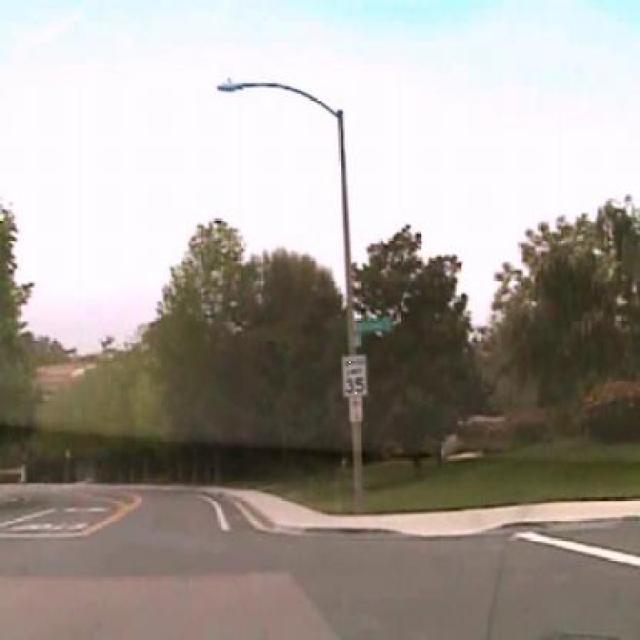speedLimit35: (342, 352, 368, 398)
